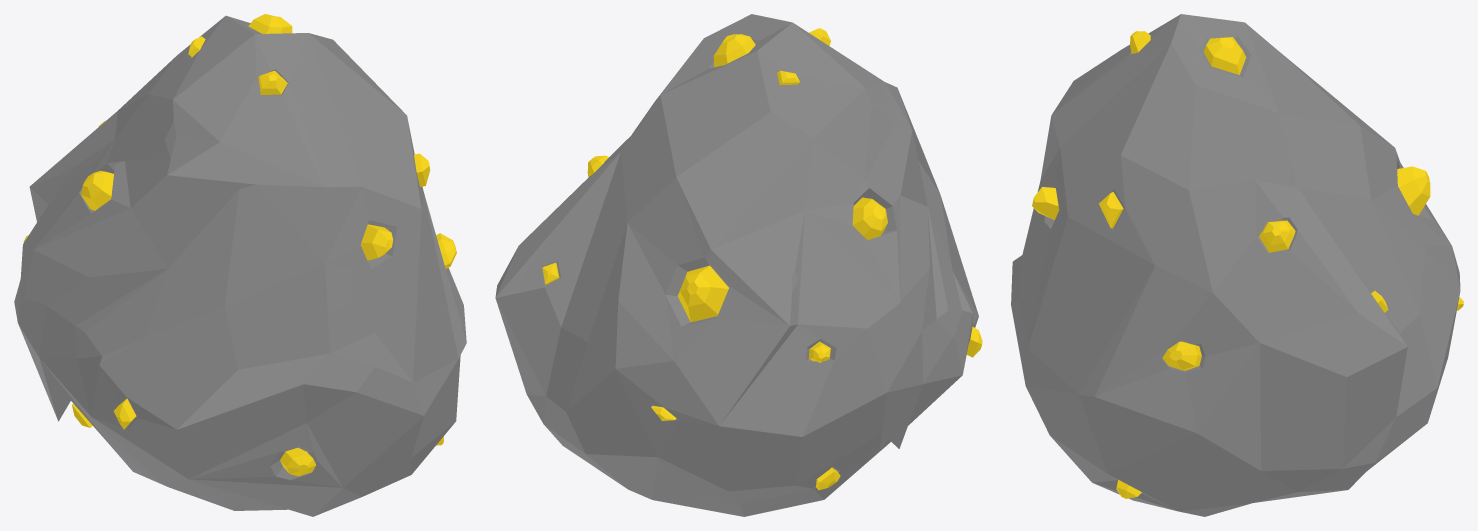
Rendered from mining_PP_Rock_Gem_04_Gold.gltf.
3 views of the same model, side by side, from view 1: azimuth 30°, elevation 25°; view 2: azimuth 150°, elevation 25°; view 3: azimuth 270°, elevation 25° (orthographic). The views are drawn at different scales.
Parts seen in each view (by area): view 1: PP_Rock_Gem_04_Gold; view 2: PP_Rock_Gem_04_Gold; view 3: PP_Rock_Gem_04_Gold.
Part boxes in pixels (x1,y1,x2,y2): PP_Rock_Gem_04_Gold: [14, 14, 466, 516]; PP_Rock_Gem_04_Gold: [495, 14, 982, 516]; PP_Rock_Gem_04_Gold: [1011, 14, 1463, 516].
Bounding box in the file's own units: 1.46 × 1.61 × 1.47.
Materials: 1 (1 with a texture image).
